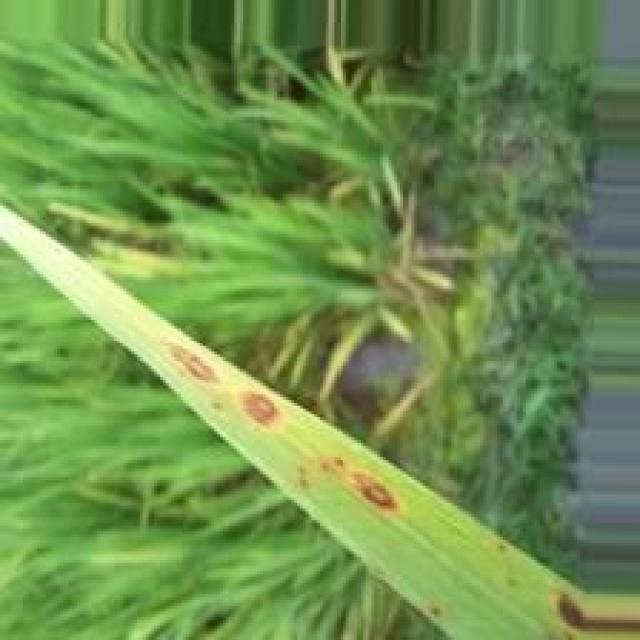Brown_Spot: (554, 593, 640, 633), (348, 473, 396, 512), (165, 352, 215, 383), (240, 396, 276, 433)
